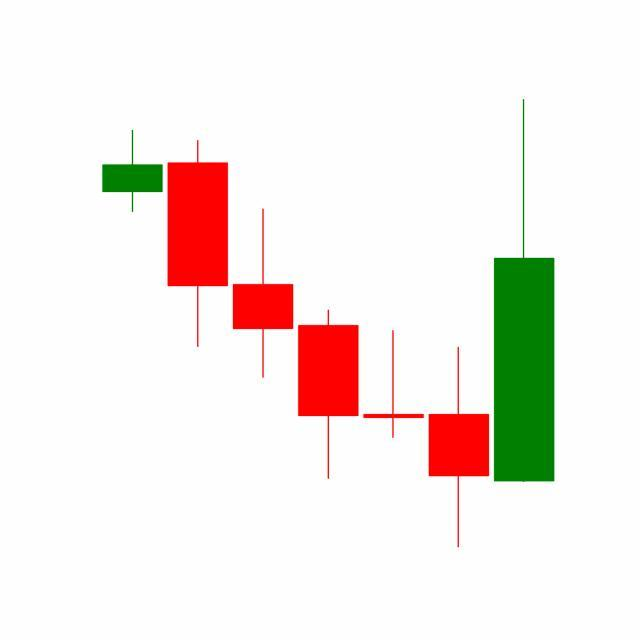Hikkake Pattern: (165, 136, 492, 549)
